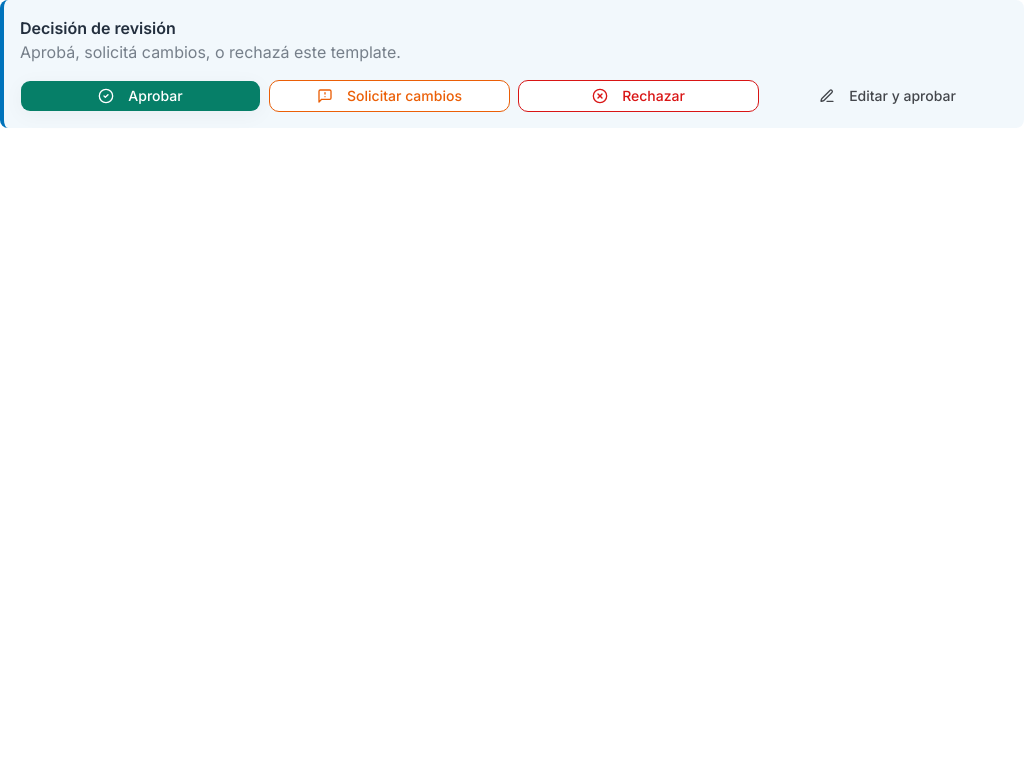
Test case: ReviewDecisionPanel › abre dialog de Aprobar al click y muestra textarea opcional
Click the button "Aprobar": (140, 96) 20,80 -> 261,112
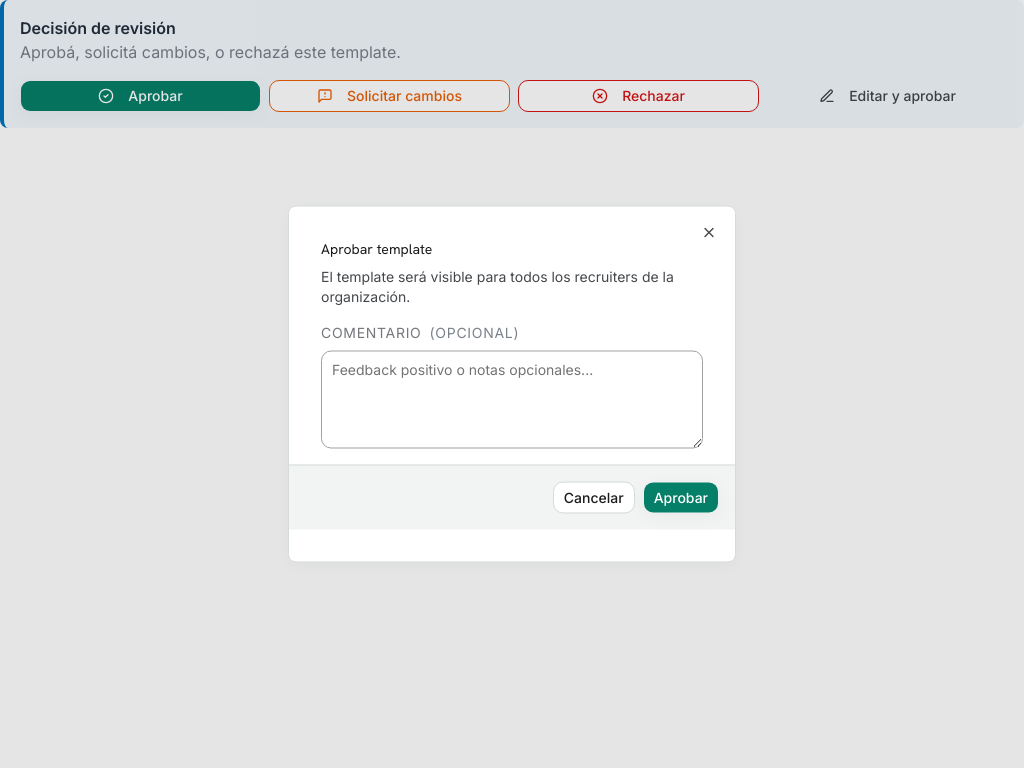
Expected: the dialog is shown, 288,206 -> 736,562
Expected: the text "Comentario (opcional)" is shown, 321,324 -> 519,340
Expected: the text "(opcional)" is shown, 430,322 -> 519,342
